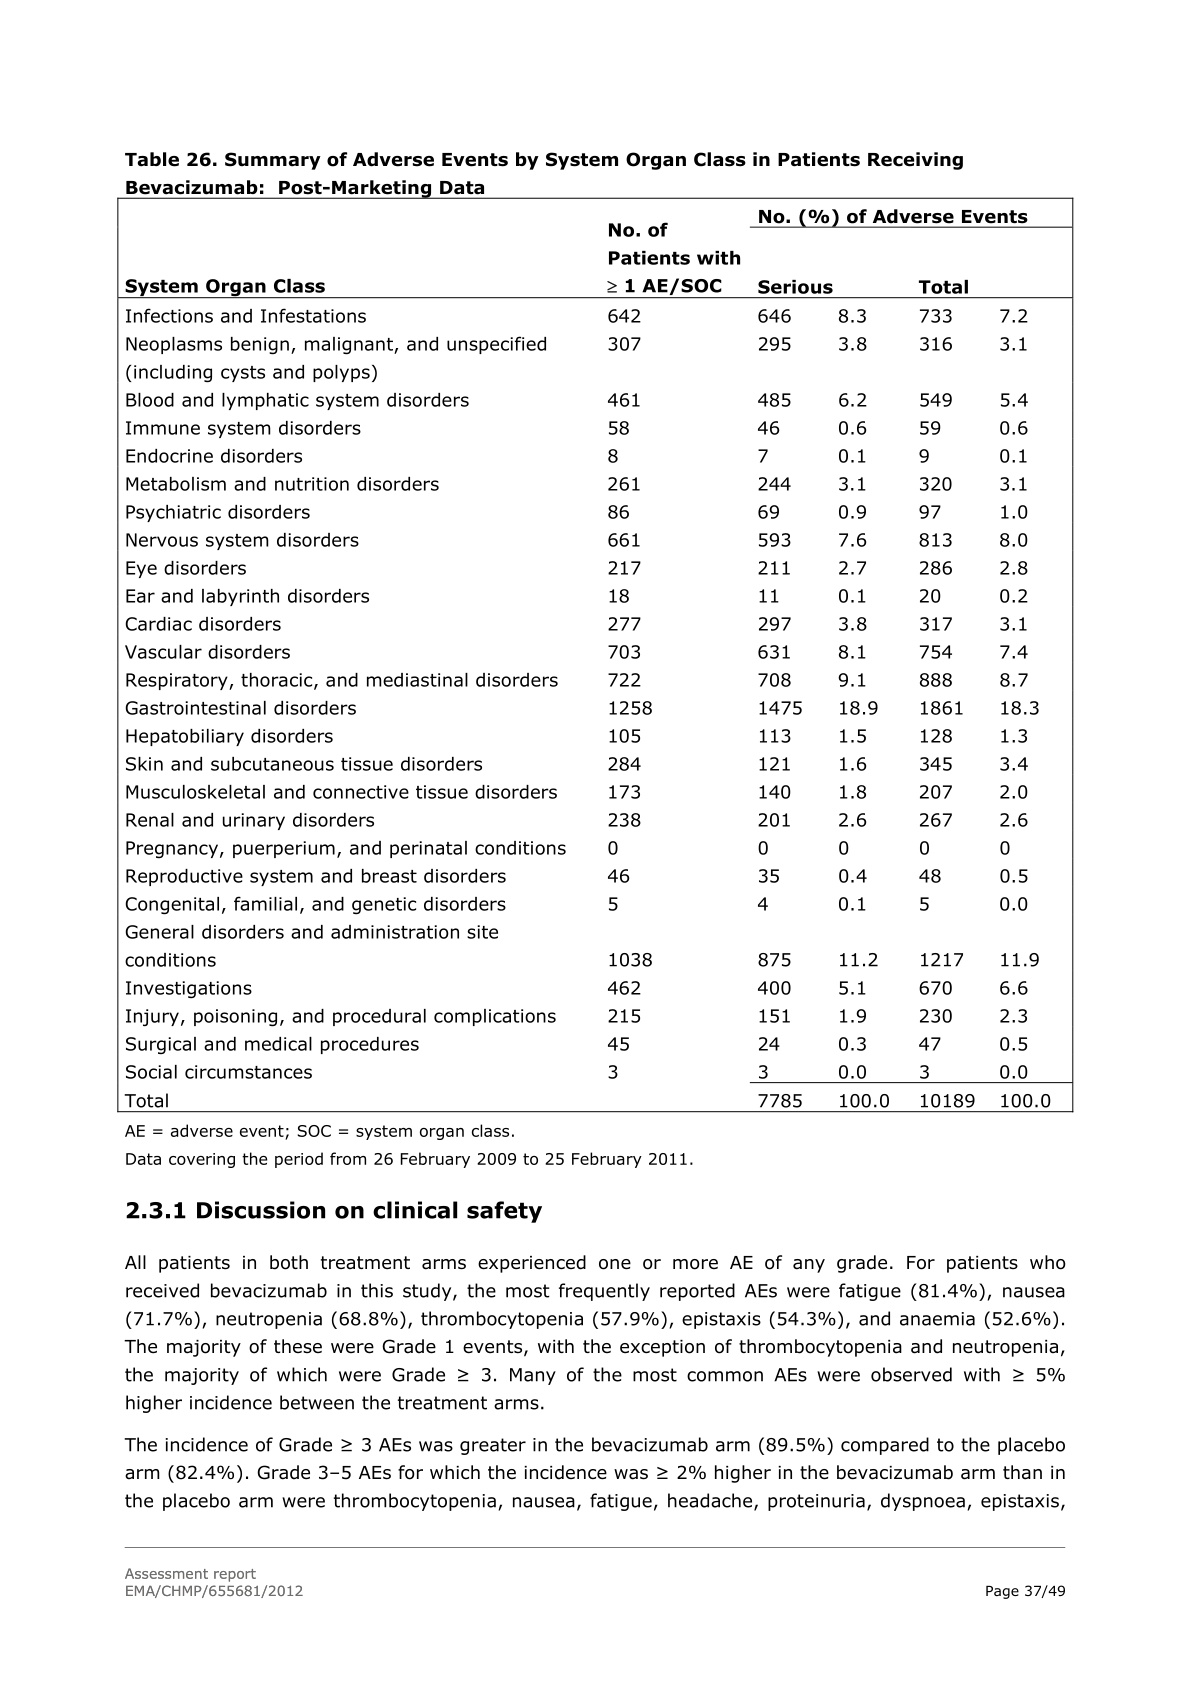partial_lined_merged_cells: (116, 196, 1075, 1115)
